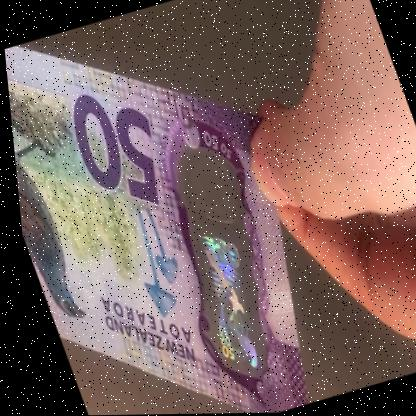50B: (150, 155, 279, 378)
